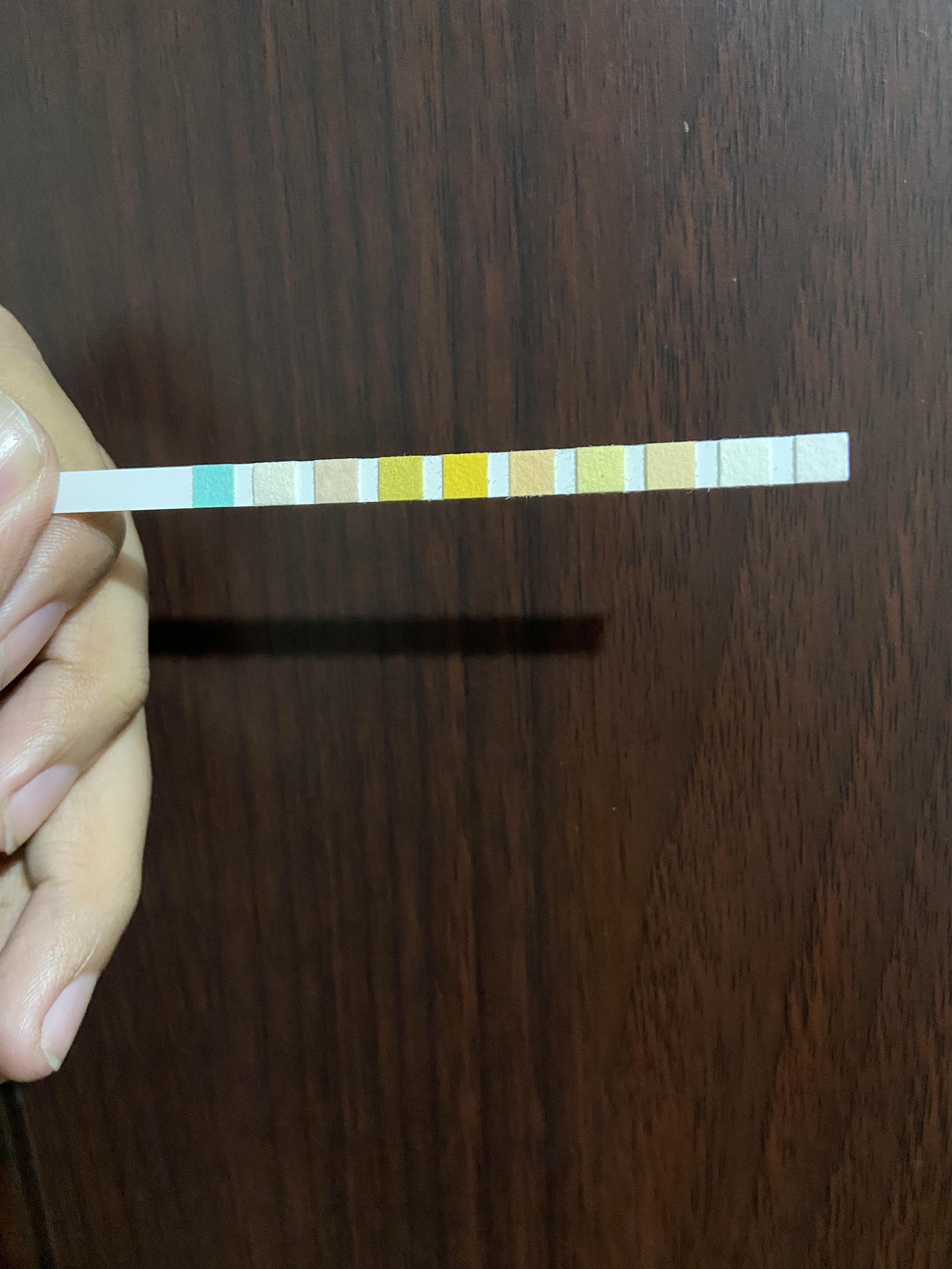Bilirubin: (254, 464, 294, 504)
Blood: (444, 455, 487, 497)
Glucose: (193, 466, 234, 507)
Ketone: (315, 461, 358, 502)
Leukocytes: (797, 436, 849, 480)
Nitrite: (720, 441, 769, 485)
Protein: (578, 448, 624, 491)
SpGravity: (380, 458, 422, 501)
Urobilinogen: (647, 445, 695, 488)
pH: (510, 452, 554, 494)
strip: (66, 432, 852, 513)
